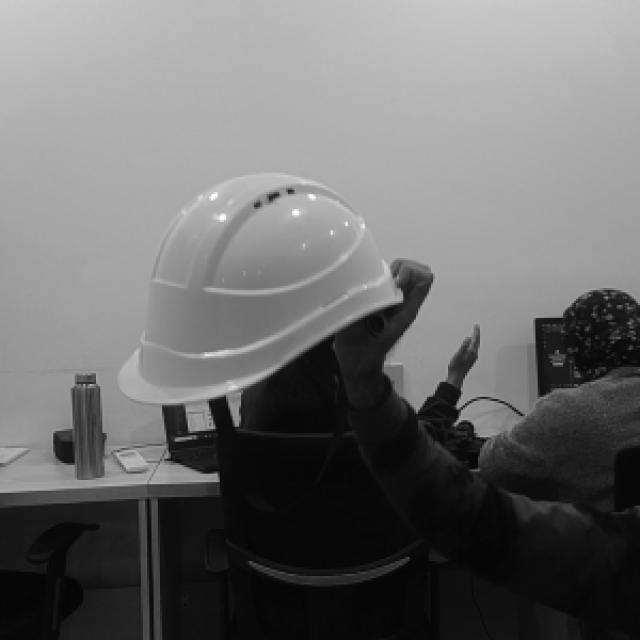safety_helmet: (120, 173, 403, 407)
